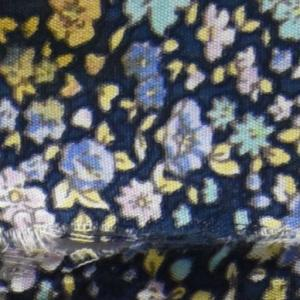Damage: (1, 215, 300, 289)
Stain: (1, 1, 153, 123)
